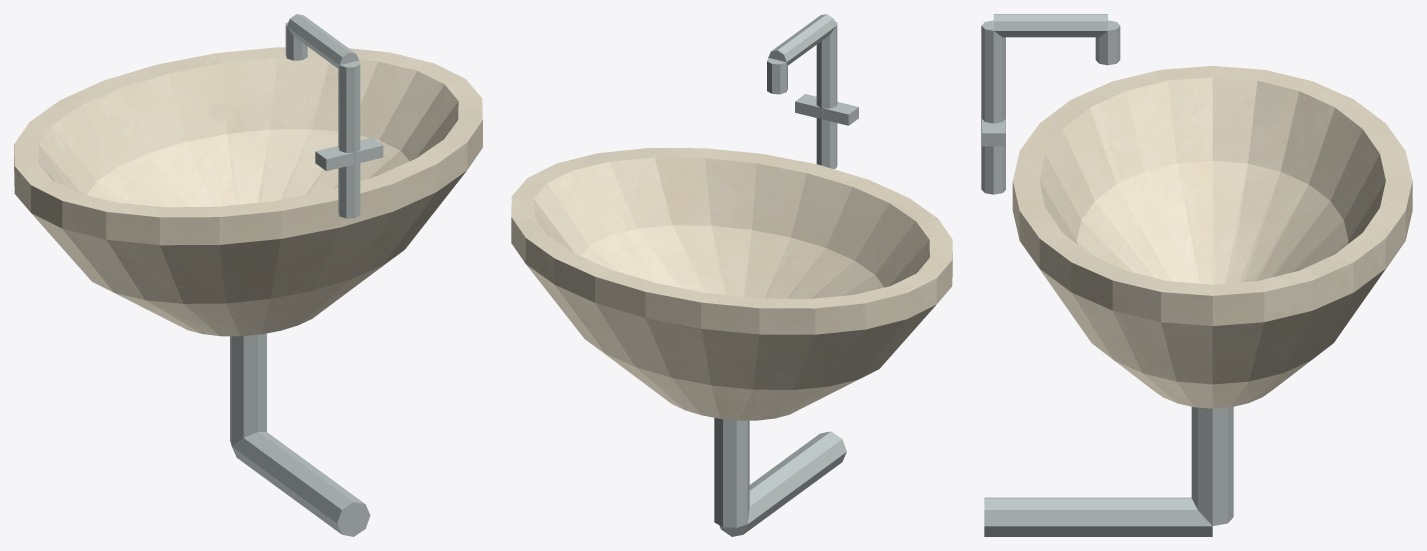
Rendered from bath-sink-wall.gltf.
3 views of the same model, side by side, from view 1: azimuth 30°, elevation 25°; view 2: azimuth 150°, elevation 25°; view 3: azimuth 270°, elevation 25° (orthographic). The views are drawn at different scales.
Visible parts, largest first — view 1: fixture-ceramic, fixture-metal, fittings-metal; view 2: fixture-ceramic, fixture-metal, fittings-metal; view 3: fixture-ceramic, fixture-metal, fittings-metal.
Boxes of the visible parts, x1,y1,x2,y2 form: fixture-ceramic: (14, 47, 482, 336); fixture-metal: (230, 333, 370, 536); fittings-metal: (285, 14, 383, 218); fixture-ceramic: (511, 148, 952, 420); fixture-metal: (714, 418, 846, 536); fittings-metal: (767, 14, 858, 168); fixture-ceramic: (1012, 66, 1412, 408); fixture-metal: (984, 406, 1233, 536); fittings-metal: (981, 14, 1120, 194).
Size of the model in its own units: 0.572 by 0.605 by 0.453.
Materials: 3 (1 with a texture image).
